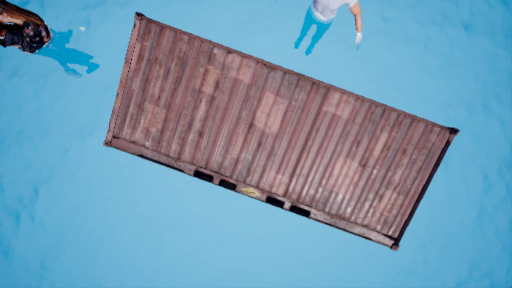person: (1, 2, 89, 80)
